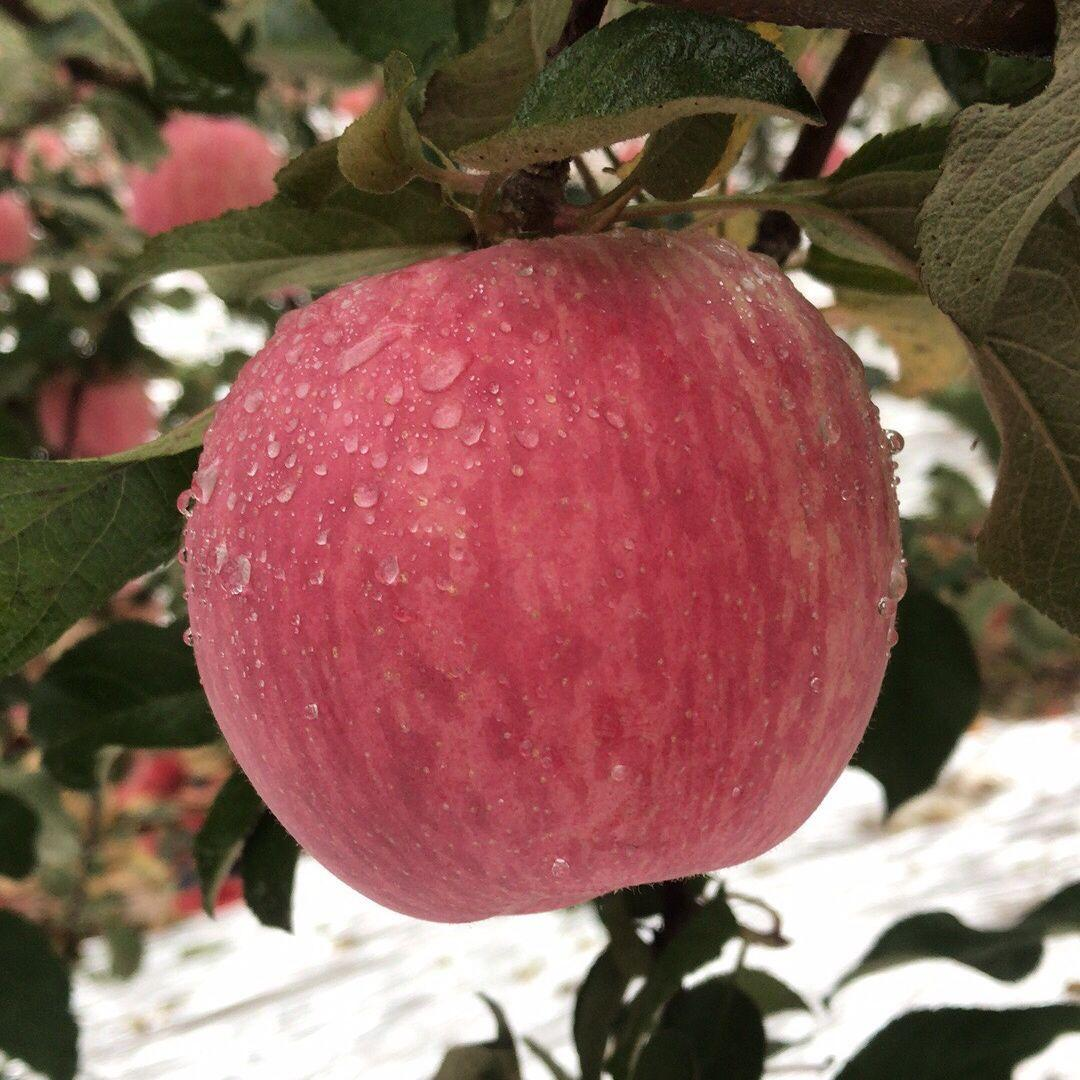apple: (185, 225, 902, 913)
